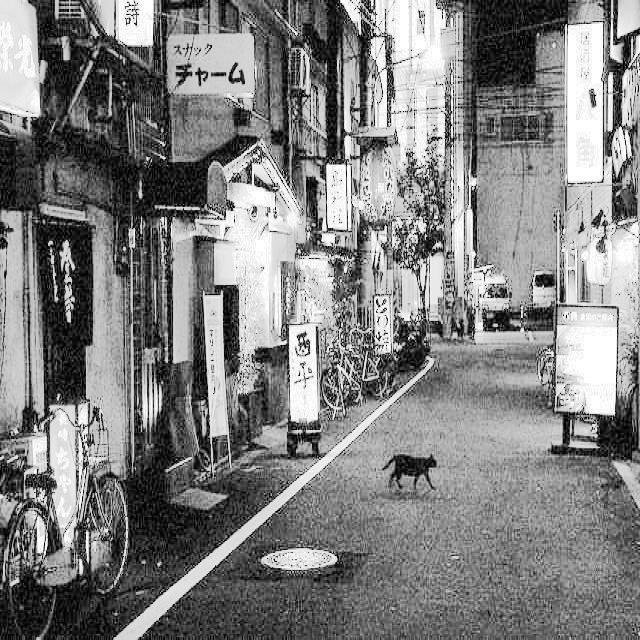Bicycle: (0, 368, 153, 640), (317, 297, 398, 415)
Car: (463, 258, 515, 350), (523, 253, 565, 337)
Cat: (374, 446, 444, 496)
